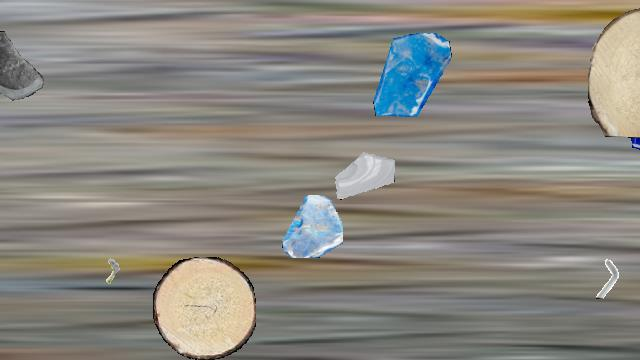glass: (370, 33, 454, 117), (0, 31, 53, 113), (280, 195, 342, 257), (334, 140, 394, 200), (620, 78, 640, 160)
metal: (586, 257, 628, 299), (90, 255, 130, 295)
wood: (153, 257, 255, 359), (588, 8, 640, 138)
